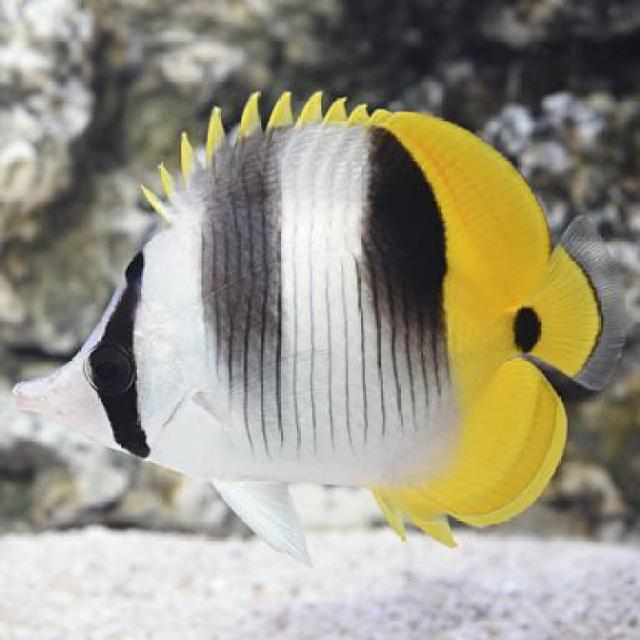ButterflyFish: (19, 92, 624, 568)
